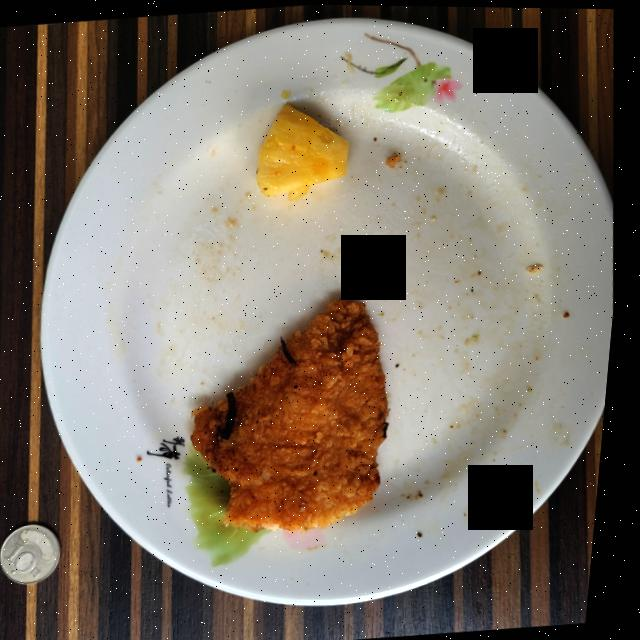coin: (8, 524, 69, 584)
fried chicken cutlet: (199, 296, 395, 530)
pineapple: (258, 102, 350, 199)
